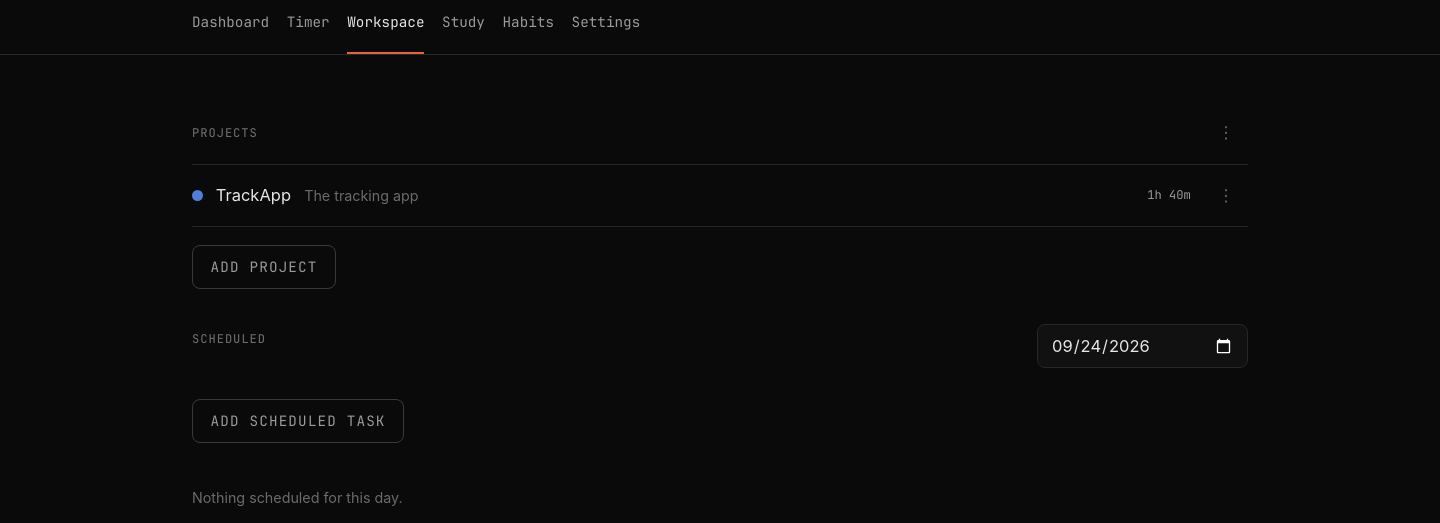
deleting a project › asks for confirmation before deleting
The width and height of the screenshot is (1440, 523).
Click the button named "more trackapp".
click(1226, 195)  # box [1204,178,1248,213]
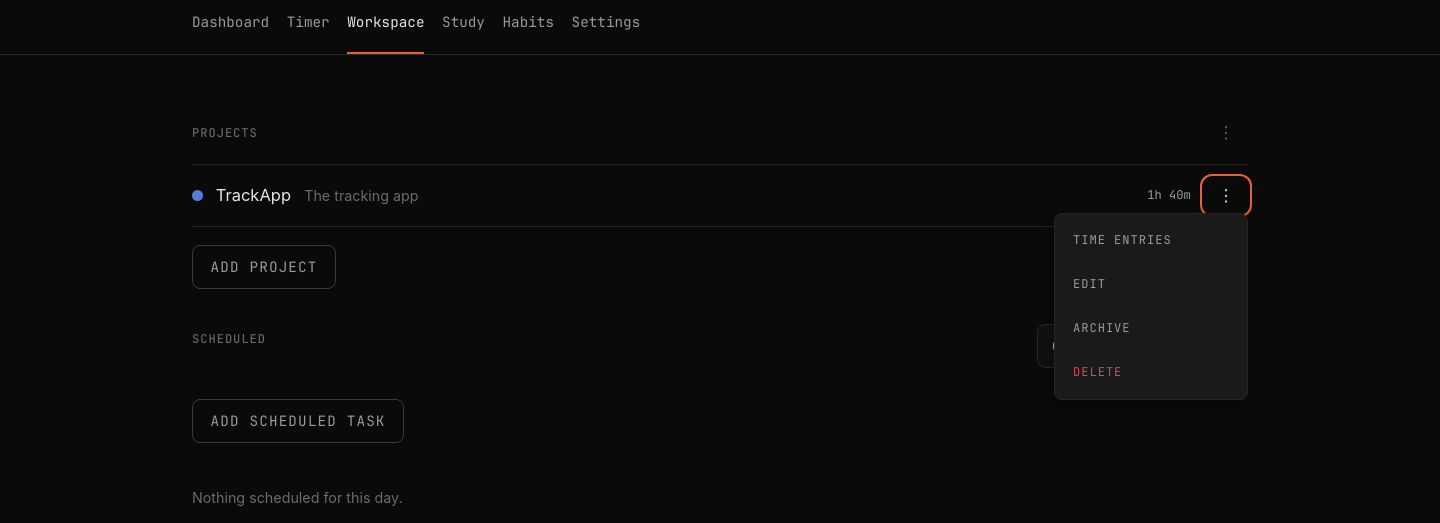
Click the button "Delete".
click(1151, 372)  # box [1060,350,1243,394]
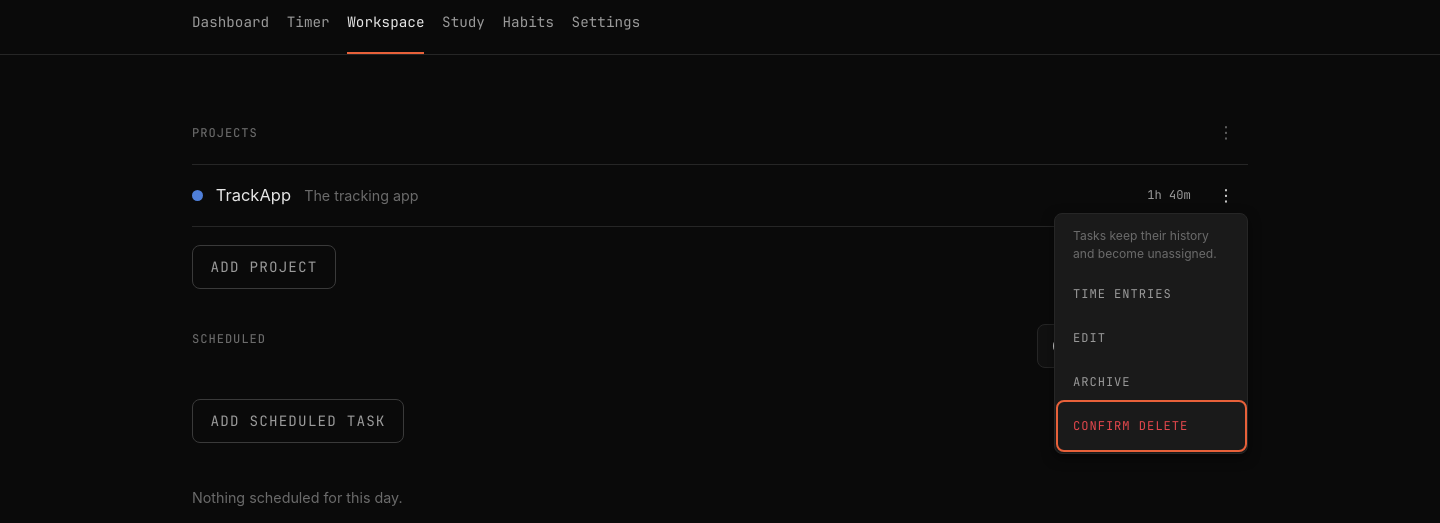
Click the button "Confirm delete".
click(1151, 426)  # box [1060,404,1243,448]
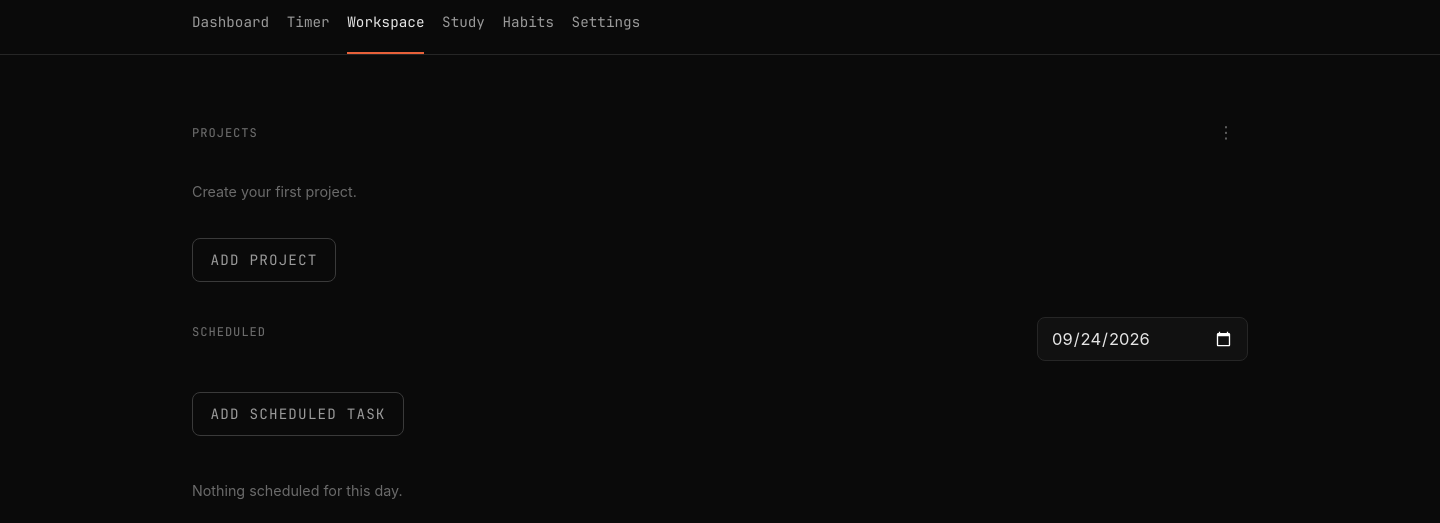
expect the text "TrackApp" is gone: met
